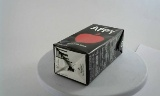appy: (48, 23, 117, 85)
